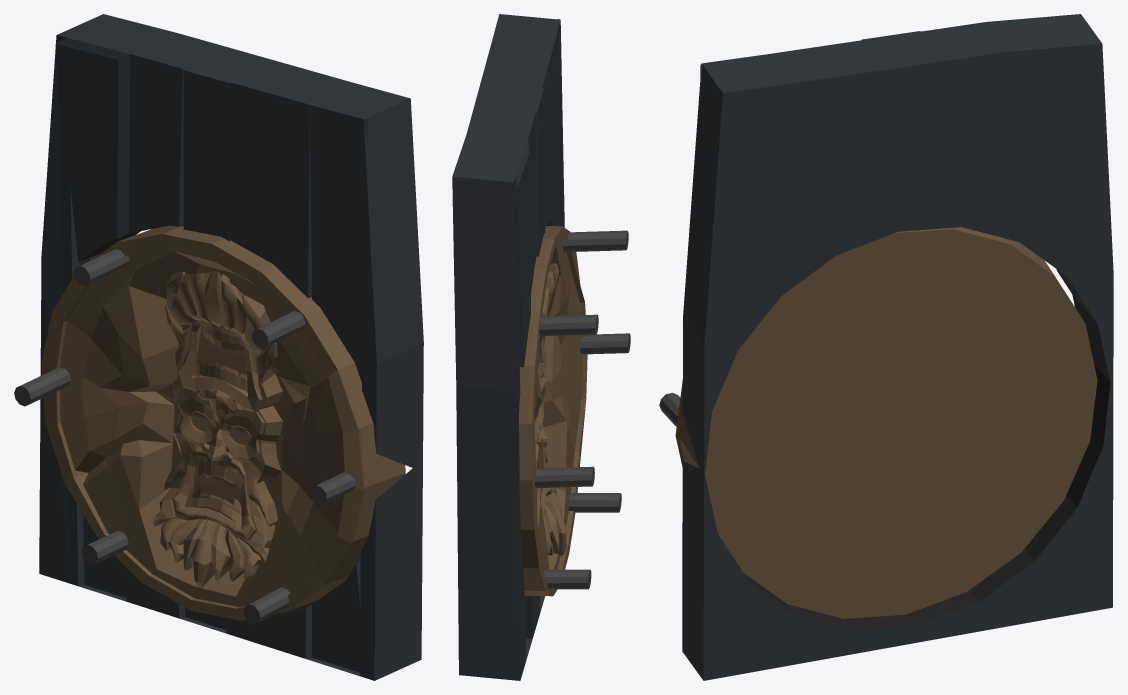
File: segment 1 puzzel 1.fbx
3 renders of one model, left to right at view 1: azimuth 30°, elevation 25°; view 2: azimuth 150°, elevation 25°; view 3: azimuth 270°, elevation 25°, orthographic. The views are drawn at different scales.
Parts seen in each view (by area): view 1: deur_segment_1, masker_rad_segment_1; view 2: deur_segment_1, masker_rad_segment_1; view 3: deur_segment_1, masker_rad_segment_1.
Part boxes in pixels (box(x1,y1,x2,y2)): deur_segment_1: box(39, 14, 423, 680); masker_rad_segment_1: box(14, 225, 405, 624); deur_segment_1: box(452, 14, 564, 680); masker_rad_segment_1: box(519, 226, 630, 596); deur_segment_1: box(682, 14, 1113, 680); masker_rad_segment_1: box(659, 227, 1097, 618).
Bounding box in the file's own units: 2.5 × 5.23 × 3.67.
